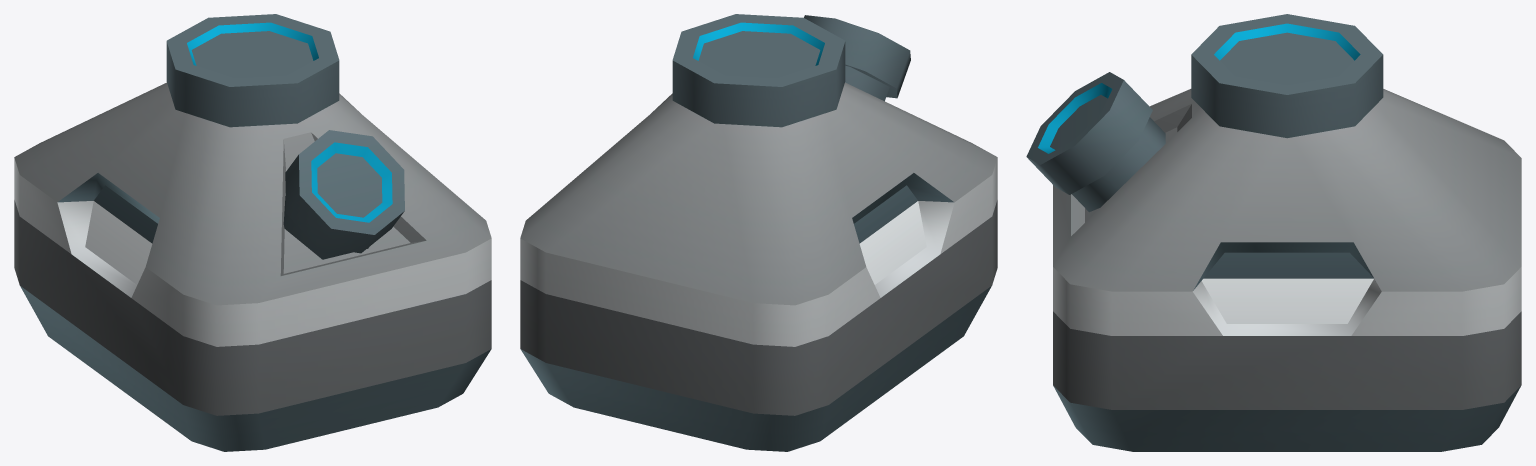
Rendered from Gas_can_002.fbx.
3 views of the same model, side by side, from view 1: azimuth 30°, elevation 25°; view 2: azimuth 150°, elevation 25°; view 3: azimuth 270°, elevation 25° (orthographic). The views are drawn at different scales.
Visible parts, largest first — view 1: Gas_can_002; view 2: Gas_can_002; view 3: Gas_can_002.
Boxes of the visible parts, x1=… form: Gas_can_002: x1=14, y1=14, x2=491, y2=451; Gas_can_002: x1=520, y1=14, x2=997, y2=451; Gas_can_002: x1=1026, y1=14, x2=1521, y2=451.
Bounding box in the file's own units: 34.8 × 45.97 × 33.56.
